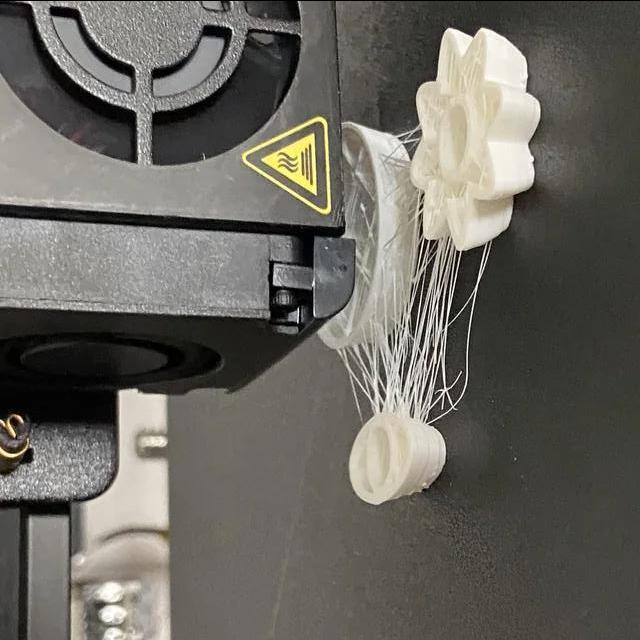stringing: (395, 228, 495, 424), (381, 119, 428, 151)
